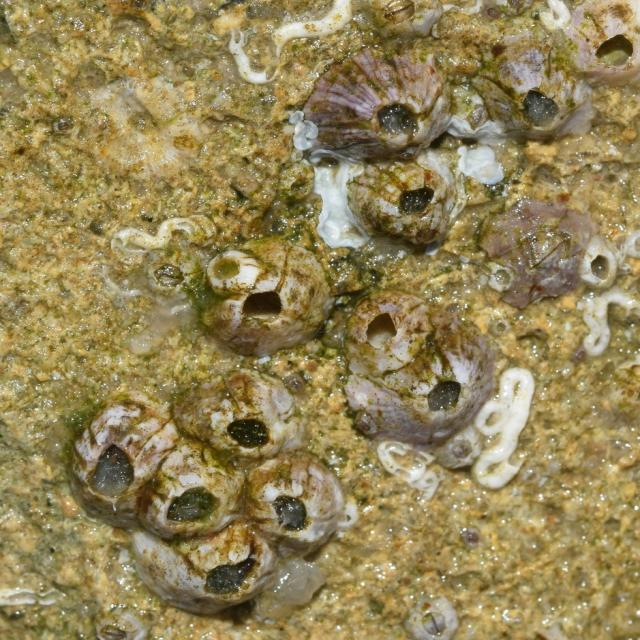barnacles: (196, 220, 334, 356), (292, 40, 448, 154), (344, 338, 502, 443), (479, 190, 596, 306), (473, 44, 580, 149), (67, 392, 153, 522), (185, 372, 310, 456), (358, 154, 463, 253), (158, 538, 278, 616), (258, 457, 354, 553), (141, 461, 250, 538), (338, 294, 430, 372)
